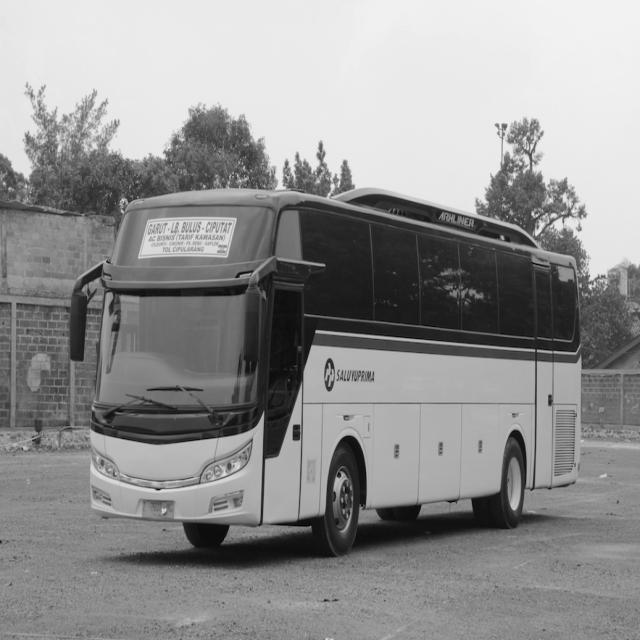Bus: (70, 188, 582, 555)
